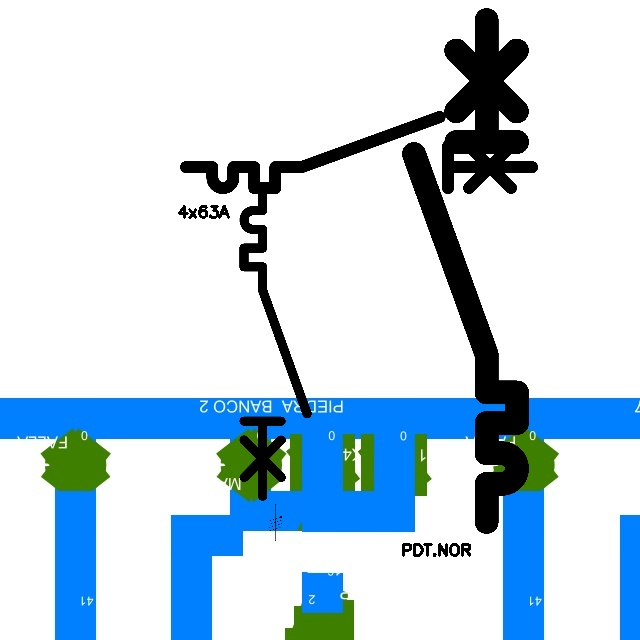interruptor_termomagnetico: (401, 7, 530, 535), (177, 108, 541, 197), (236, 179, 315, 504)
